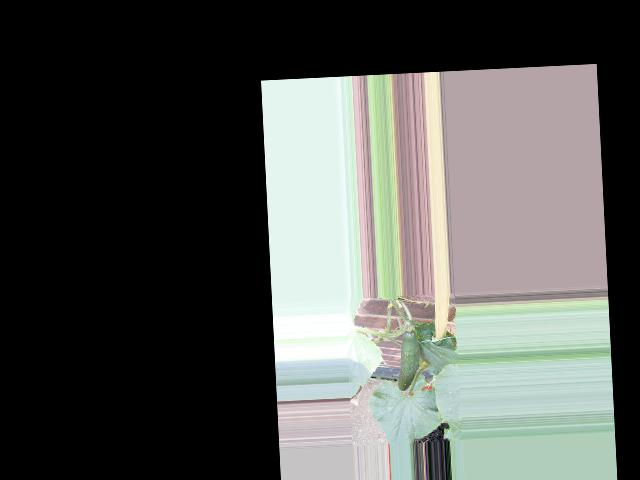cucumber: (394, 329, 421, 391)
